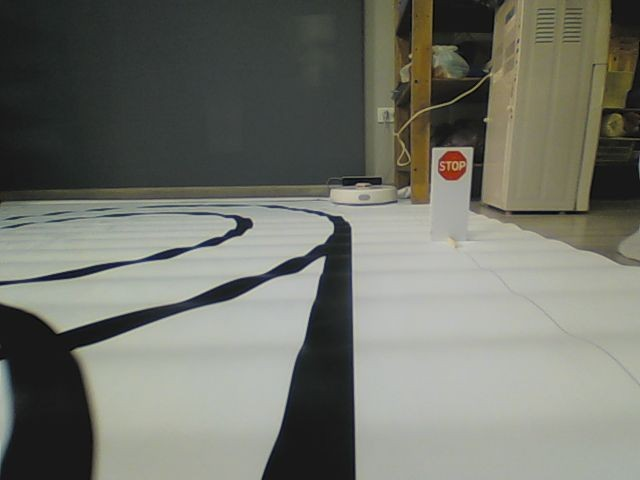Stop: (436, 151, 467, 181)
